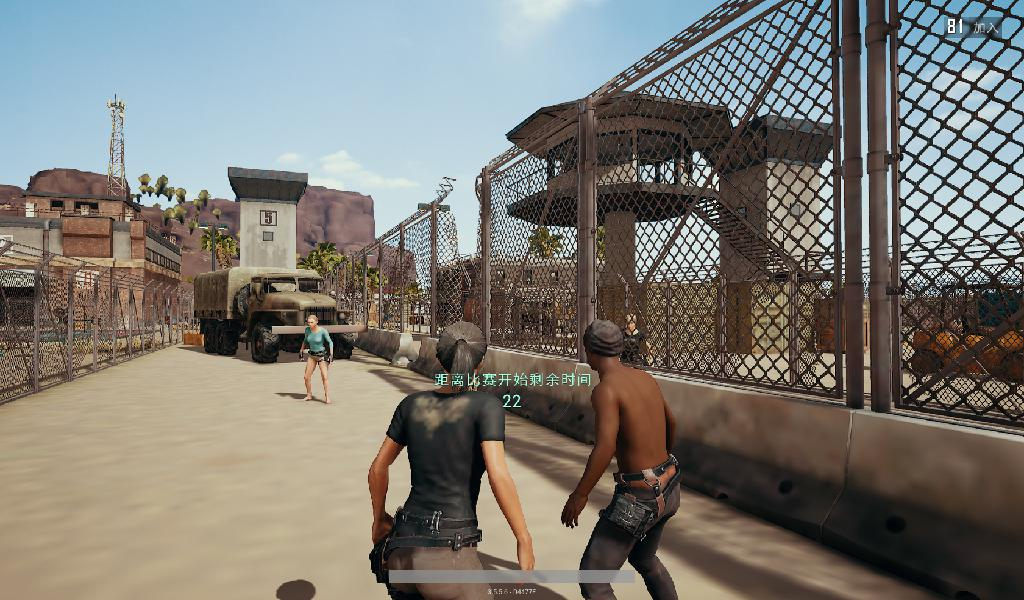Target Person: (365, 320, 538, 600), (561, 321, 682, 600), (294, 314, 336, 406), (616, 312, 650, 381)
